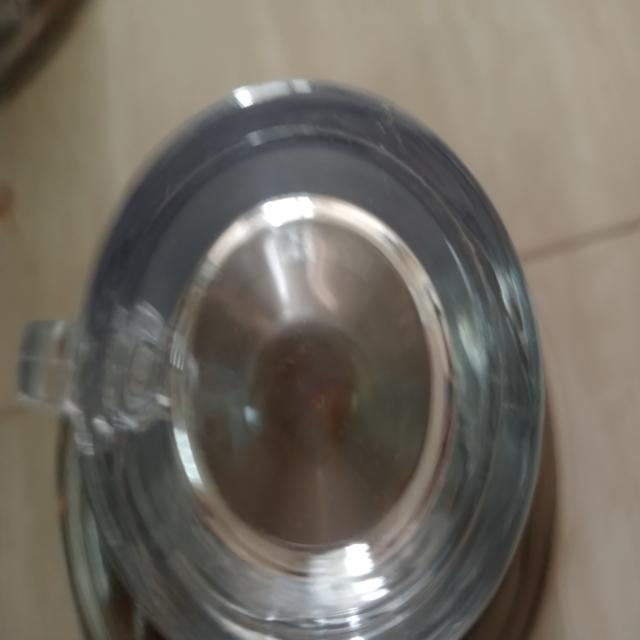glass-VX4N: (19, 81, 546, 640)
